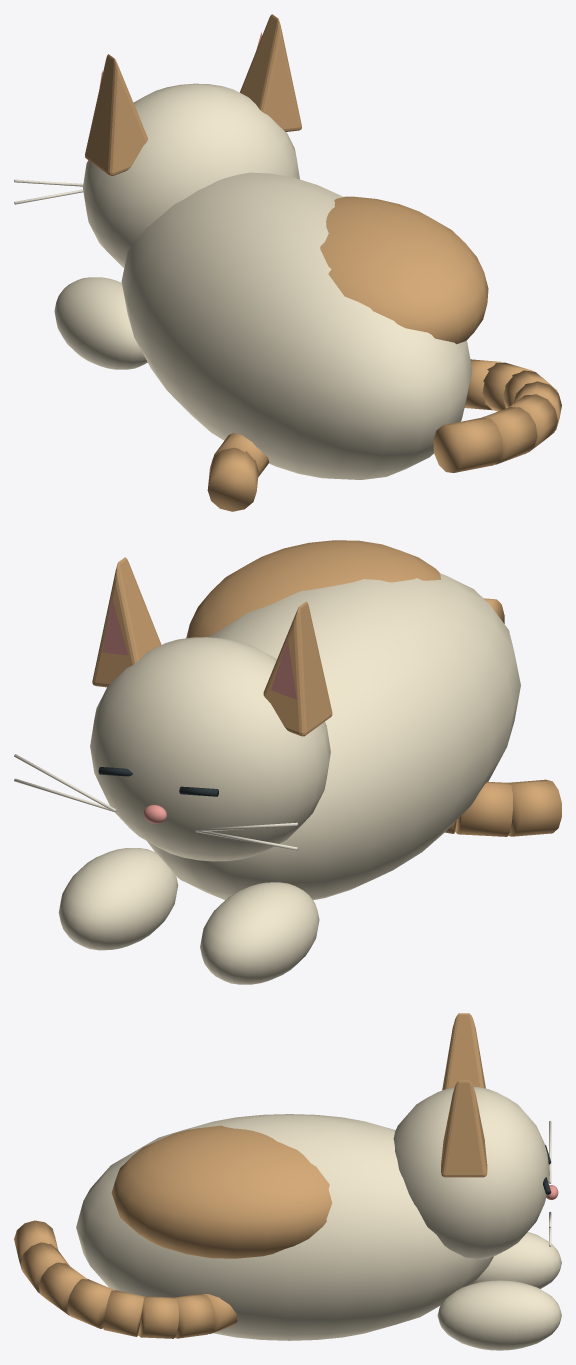
The model's file is campus_cat.glb.
3 renders of one model, top to bottom at view 1: azimuth 30°, elevation 25°; view 2: azimuth 150°, elevation 25°; view 3: azimuth 270°, elevation 25°, orthographic. The views are drawn at different scales.
Visible parts, largest first — view 1: CatLoaf, CatFace, CatPatch, CatTail, CatEar, CatPaw; view 2: CatLoaf, CatFace, CatPatch, CatPaw, CatPaw.001, CatEar, CatTail, CatInnerEar, Whisker, CatSleepEye; view 3: CatLoaf, CatPatch, CatFace, CatTail, CatPaw.001, CatEar, CatPaw.
Boxes of the visible parts, x1=… form: CatLoaf: x1=121, y1=172, x2=472, y2=479; CatFace: x1=83, y1=83, x2=299, y2=267; CatPatch: x1=320, y1=196, x2=488, y2=344; CatTail: x1=207, y1=359, x2=561, y2=511; CatEar: x1=85, y1=14, x2=301, y2=175; CatPaw: x1=54, y1=277, x2=147, y2=369; CatLoaf: x1=147, y1=573, x2=520, y2=900; CatFace: x1=90, y1=637, x2=330, y2=861; CatPatch: x1=186, y1=540, x2=440, y2=638; CatPaw: x1=200, y1=882, x2=319, y2=984; CatPaw.001: x1=58, y1=848, x2=178, y2=950; CatEar: x1=92, y1=557, x2=332, y2=736; CatTail: x1=445, y1=598, x2=561, y2=836; CatInnerEar: x1=102, y1=596, x2=296, y2=823; Whisker: x1=14, y1=754, x2=298, y2=850; CatSleepEye: x1=98, y1=767, x2=218, y2=796; CatLoaf: x1=76, y1=1114, x2=493, y2=1340; CatPatch: x1=111, y1=1125, x2=332, y2=1258; CatFace: x1=393, y1=1086, x2=549, y2=1259; CatTail: x1=14, y1=1220, x2=237, y2=1338; CatPaw.001: x1=437, y1=1280, x2=561, y2=1350; CatEar: x1=441, y1=1013, x2=487, y2=1177; CatPaw: x1=473, y1=1232, x2=561, y2=1288.
Size of the model in its own units: 0.5124 by 0.5257 by 0.9247.
